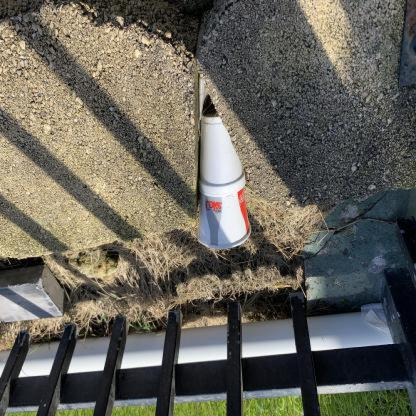Cup: (199, 113, 246, 197), (197, 187, 250, 249)
Plastic bag - wrapper: (199, 76, 207, 120)
Unlabeled litter: (360, 303, 390, 335)
